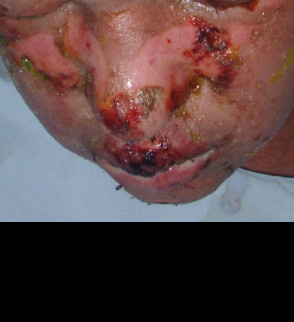SJS-TEN: (0, 0, 288, 192)
